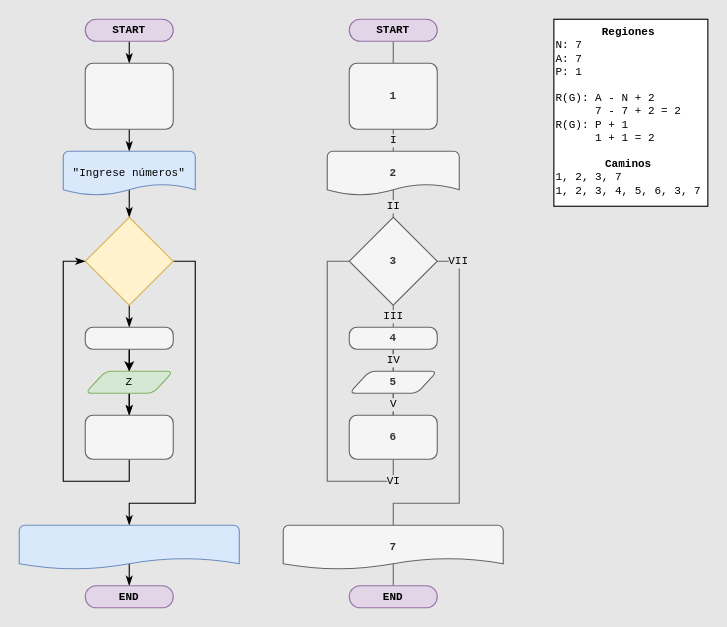
This 727x627 diagram has some shape labels left out. The shapes that lost their labels are listed below. From the top down, each one's centre as x and y in pixels, then its label:
pixel 128 95: A = 0 C = 0 Z = 0
pixel 128 260: while z < 500
pixel 128 337: A = Z
pixel 128 436: Z += A C += 1
pixel 128 546: "Se ingresaron ", C, " números."
